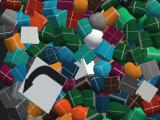Left: (18, 56, 68, 114)
